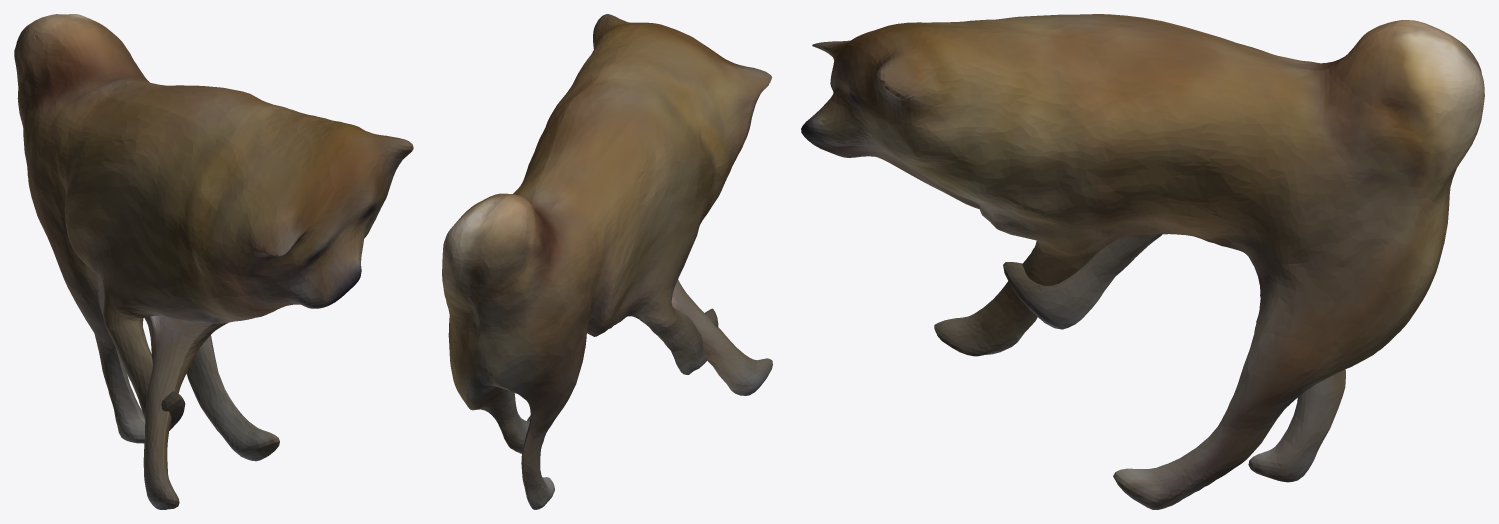
File: shiba-haru-1002-mesh-00009.obj
The picture shows the model from 3 angles, left to right: view 1: azimuth 30°, elevation 25°; view 2: azimuth 150°, elevation 25°; view 3: azimuth 270°, elevation 25°; orthographic projection. The views are drawn at different scales.
Size of the model in its own units: 0.0421 by 0.075 by 0.0968.
